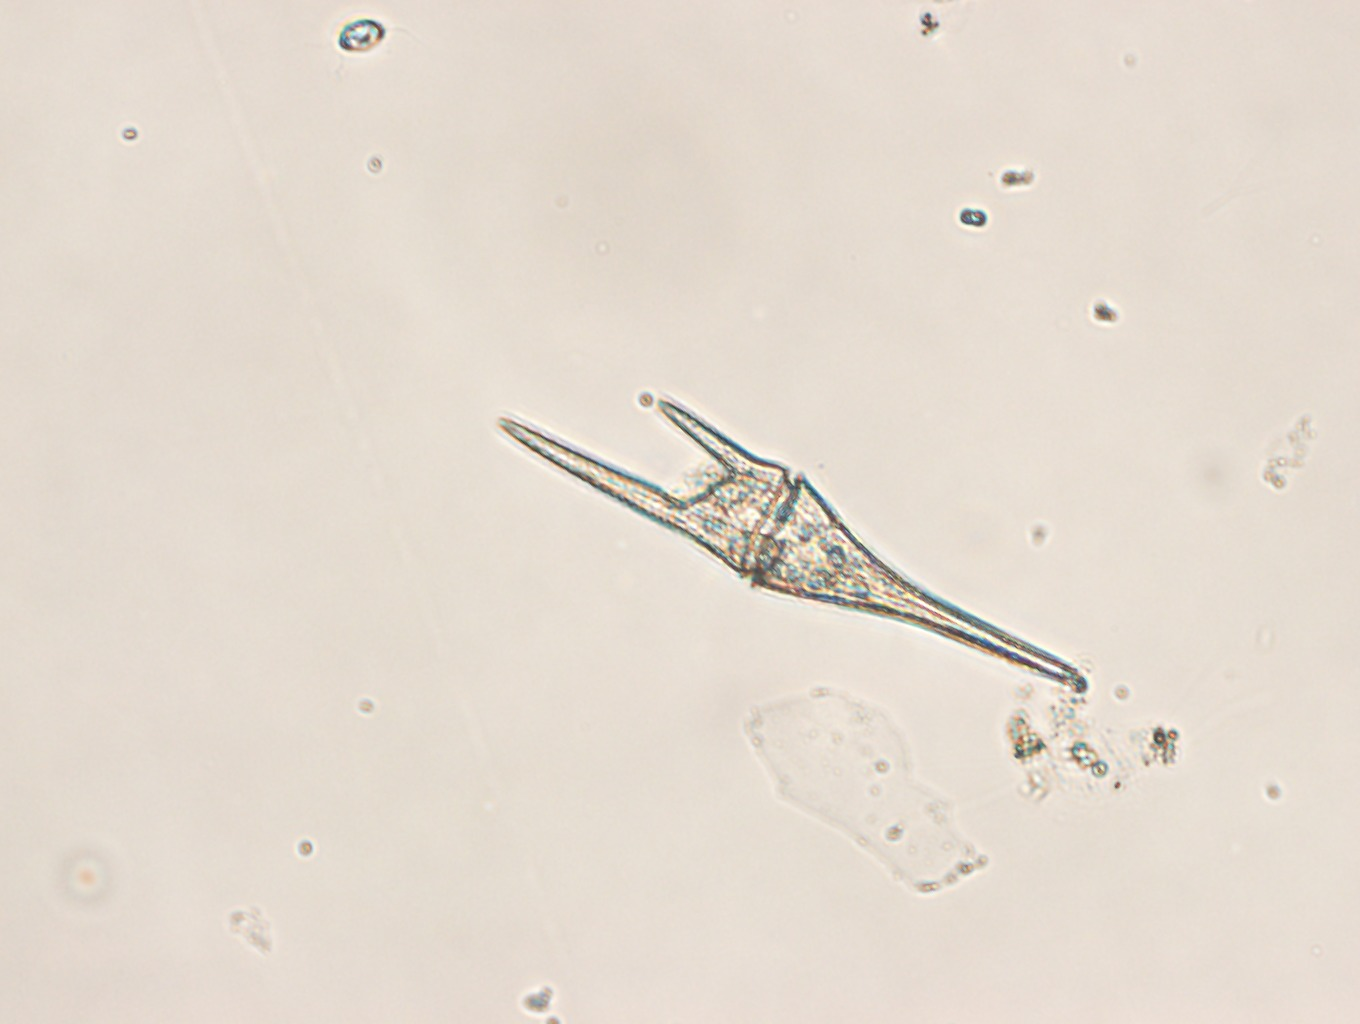ceratium furca: (500, 393, 1092, 696)
